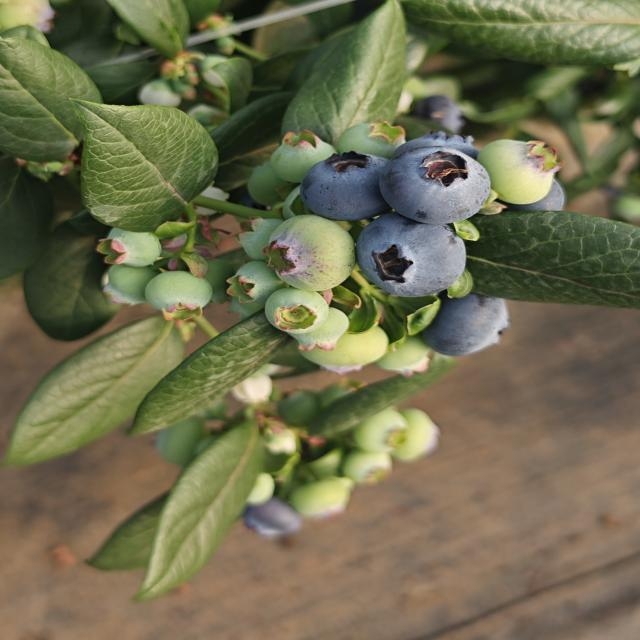ripe: (363, 210, 469, 298), (385, 148, 496, 232), (309, 150, 384, 220), (503, 169, 584, 219), (440, 300, 509, 358), (391, 88, 471, 138), (233, 494, 303, 541)
